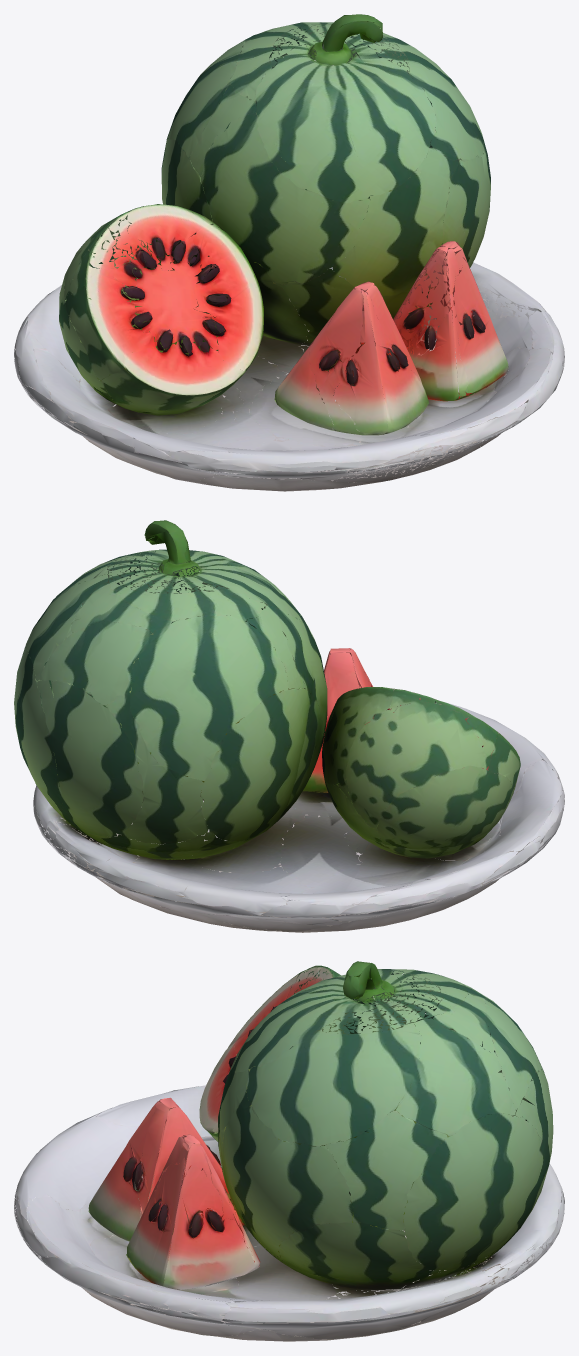
The model's file is melons.glb.
3 views of the same model, one above another, from view 1: azimuth 30°, elevation 25°; view 2: azimuth 150°, elevation 25°; view 3: azimuth 270°, elevation 25° (orthographic). The views are drawn at different scales.
Parts seen in each view (by area): view 1: node_0; view 2: node_0; view 3: node_0.
Boxes of the visible parts, box(x1,y1,x2,y2) form: node_0: box(14, 14, 564, 491); node_0: box(14, 520, 564, 932); node_0: box(14, 961, 564, 1341).
Bounding box in the file's own units: 1.06 × 0.7057 × 1.06.
1 material, 1 textured.
